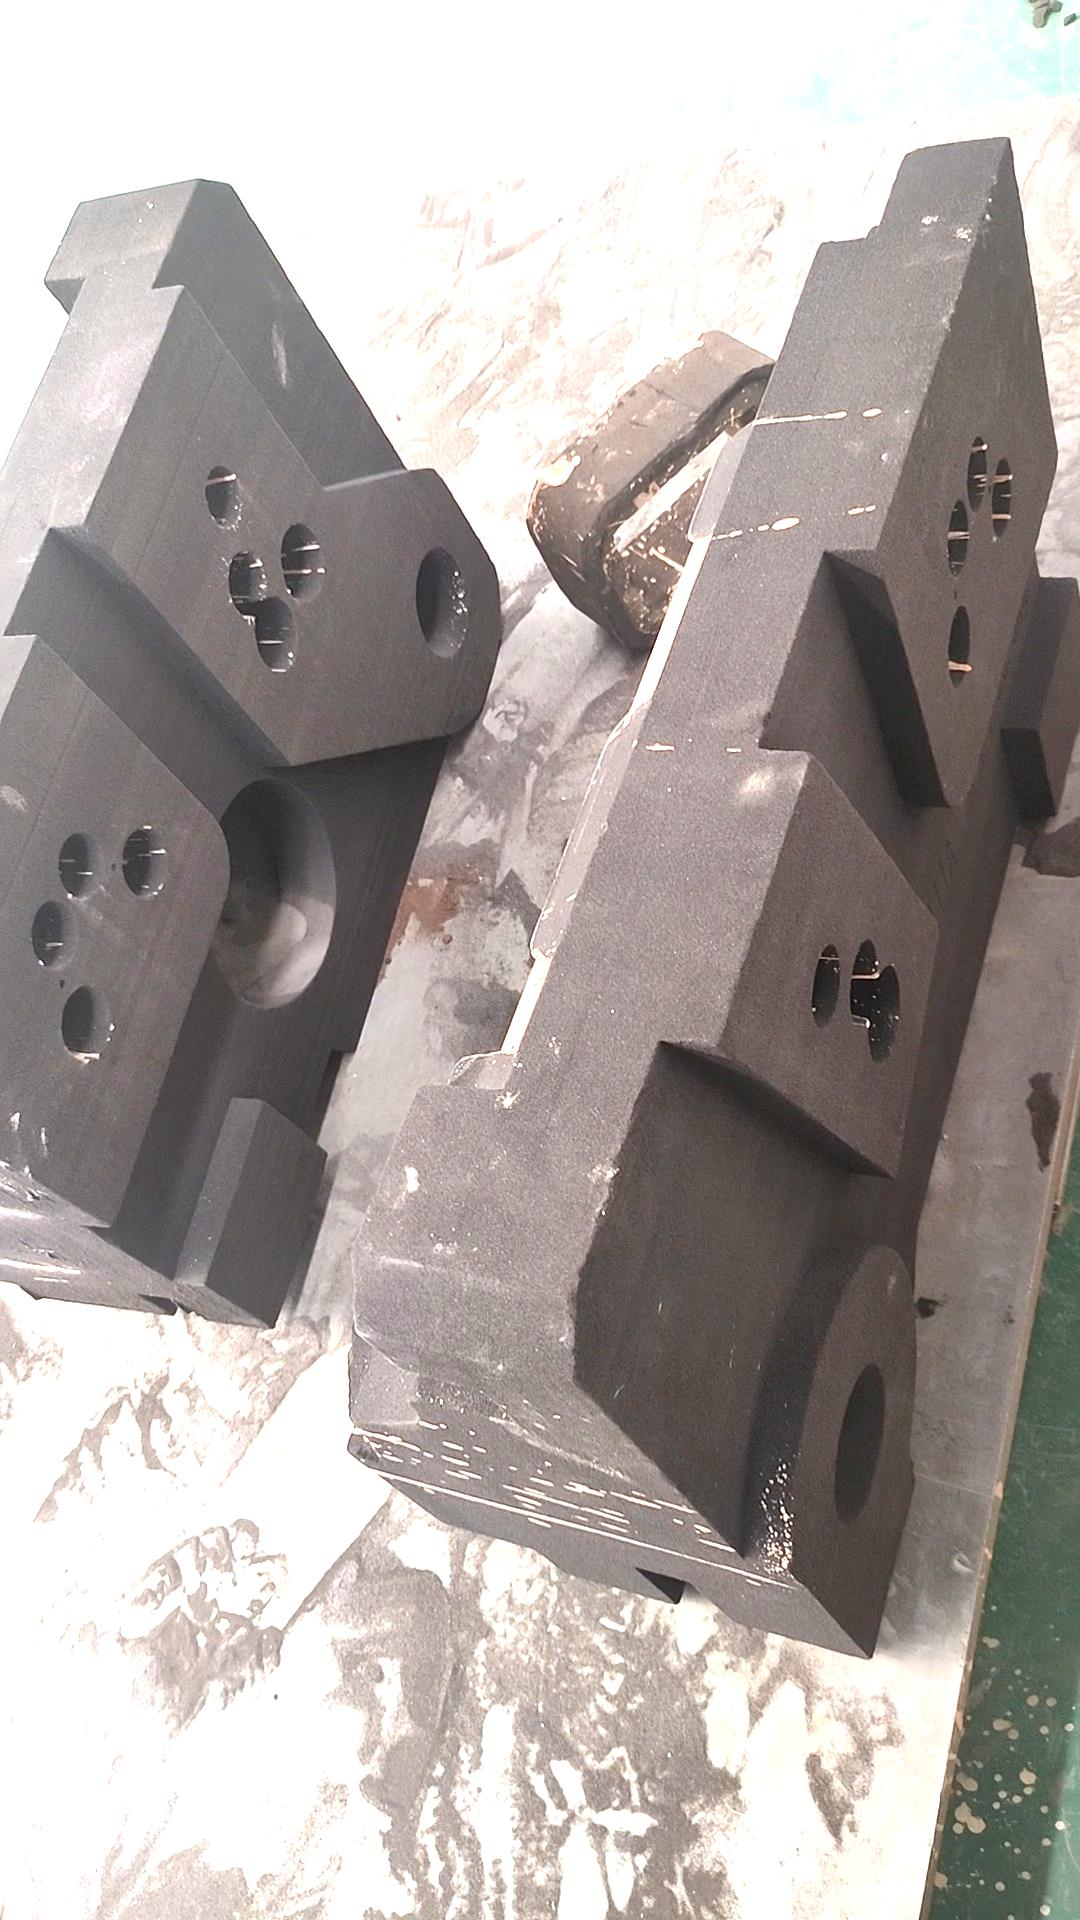pouring hole: (833, 1364, 884, 1522), (415, 549, 467, 658)
